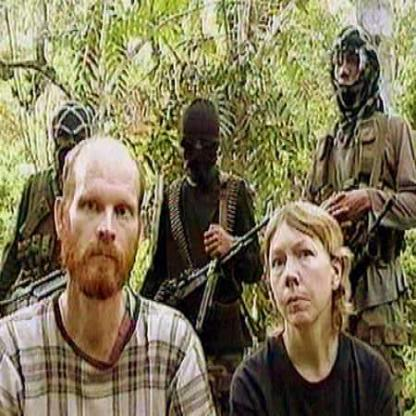face: (65, 138, 142, 301), (264, 203, 334, 327)
